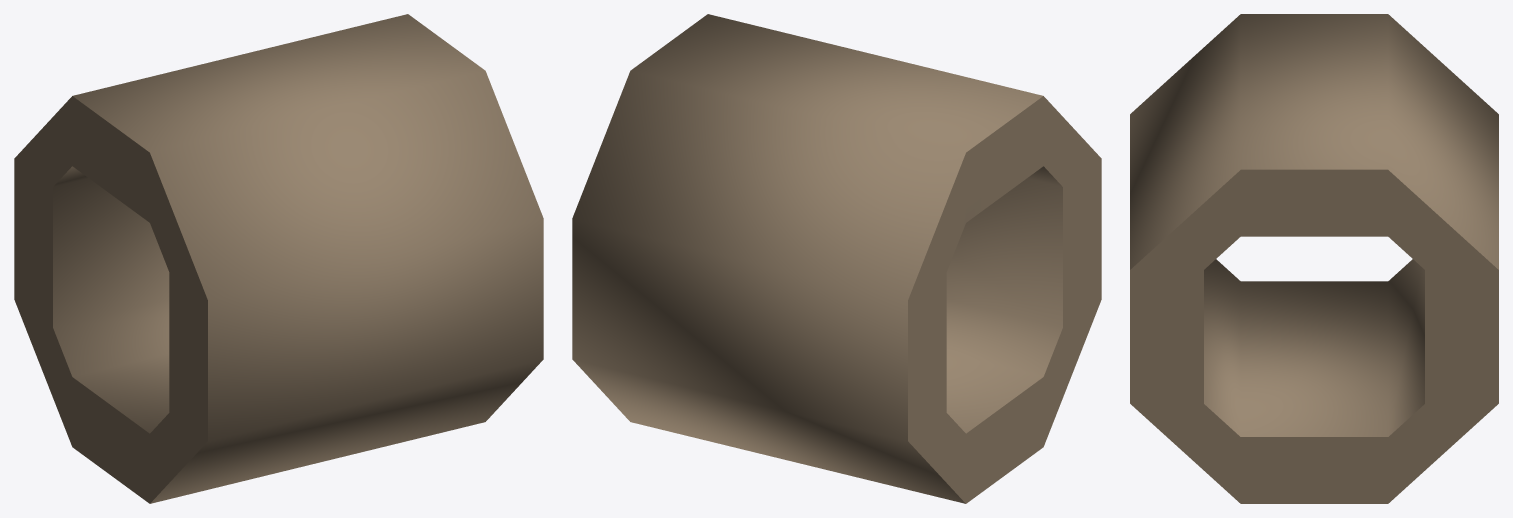
File: conveyer.glb
3 renders of one model, left to right at view 1: azimuth 30°, elevation 25°; view 2: azimuth 150°, elevation 25°; view 3: azimuth 270°, elevation 25°, orthographic. The views are drawn at different scales.
Visible parts, largest first — view 1: conveyer; view 2: conveyer; view 3: conveyer.
Boxes of the visible parts, x1,y1,x2,y2 form: conveyer: (14, 14, 543, 503); conveyer: (572, 14, 1101, 503); conveyer: (1130, 14, 1498, 503).
Size of the model in its own units: 1 by 1 by 1.
